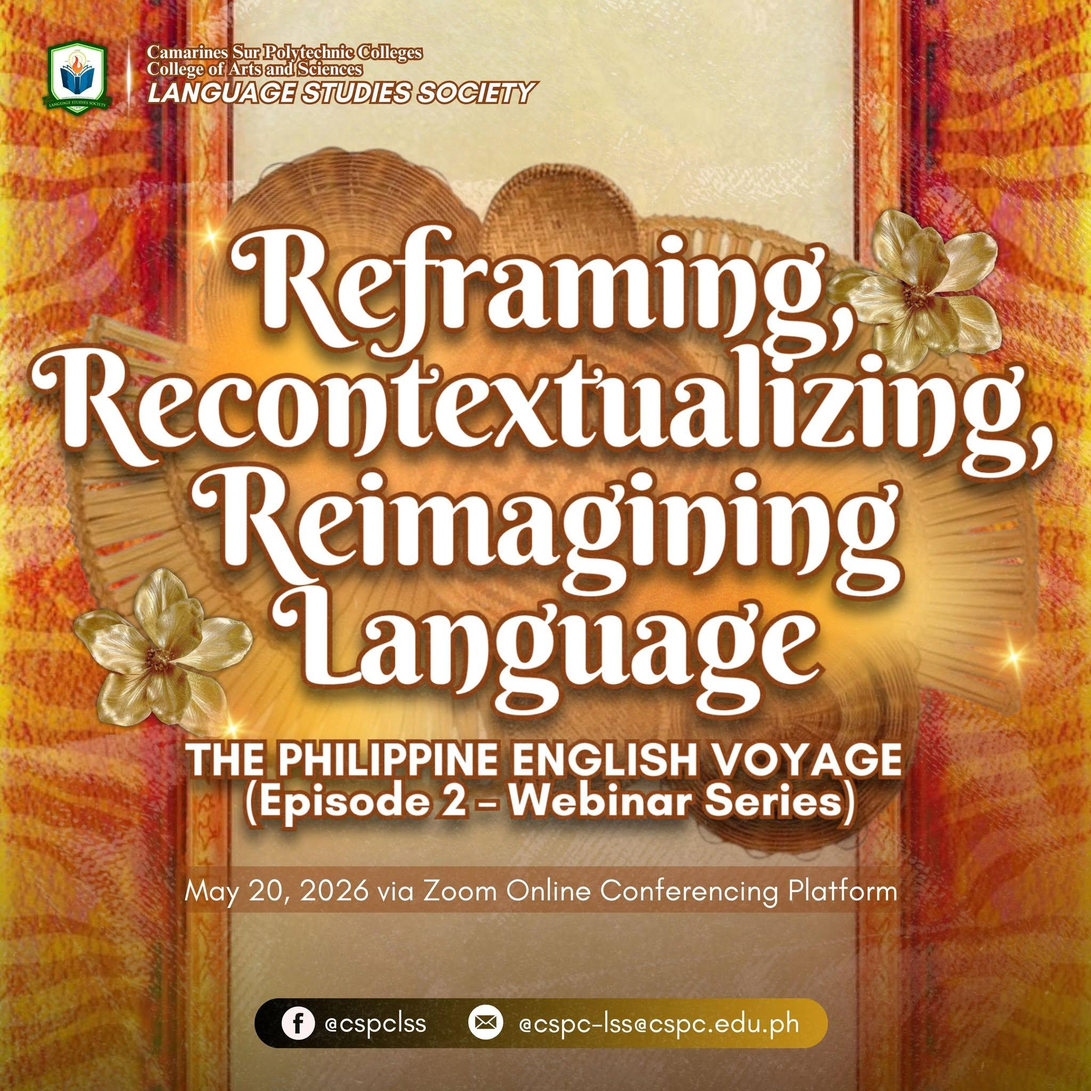embellishment: (49, 552, 267, 756), (848, 202, 1021, 375), (273, 1005, 318, 1050), (467, 1002, 507, 1049)
logo: (34, 36, 126, 128)
text: (21, 221, 1068, 713), (169, 716, 909, 827), (137, 34, 548, 113), (183, 874, 906, 909), (511, 1007, 811, 1037), (325, 1009, 431, 1042)
underlay: (248, 996, 832, 1050)
